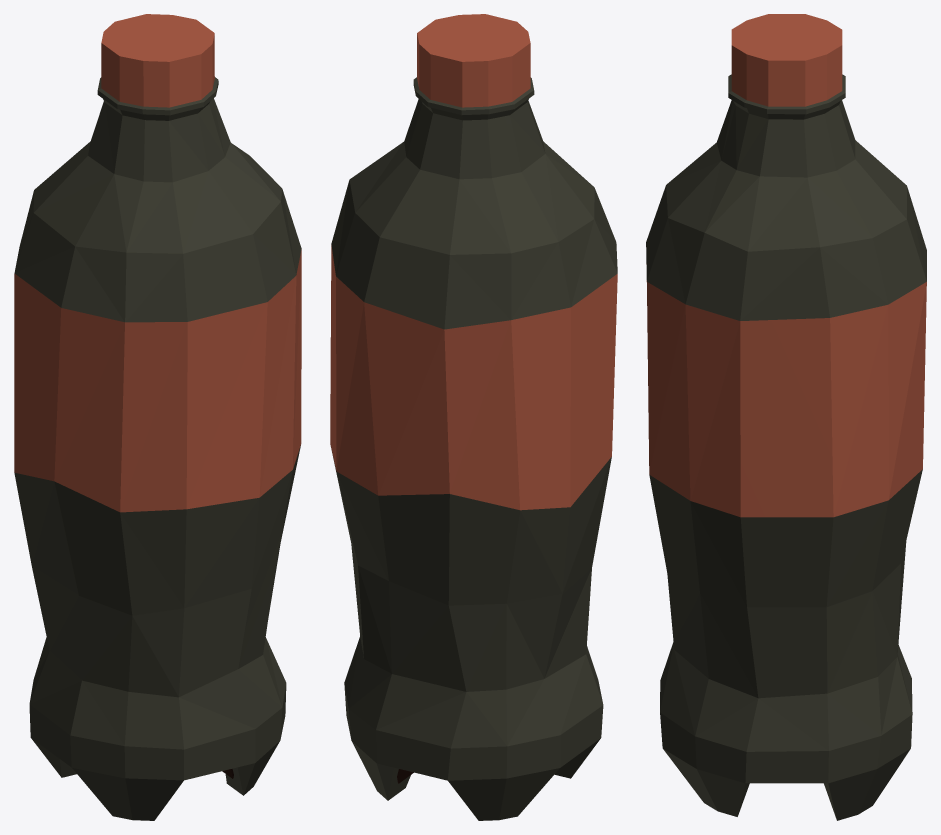
Rendered from BottleOfCola.fbx.
The picture shows the model from 3 angles, left to right: view 1: azimuth 30°, elevation 25°; view 2: azimuth 150°, elevation 25°; view 3: azimuth 270°, elevation 25°; orthographic projection.
Parts seen in each view (by area): view 1: Bottle; view 2: Bottle; view 3: Bottle.
Part boxes in pixels (left/top/right/bottom): Bottle: left=14, top=14, right=301, bottom=820; Bottle: left=330, top=14, right=617, bottom=820; Bottle: left=646, top=14, right=926, bottom=820.
Size of the model in its own units: 148 by 434 by 148.
